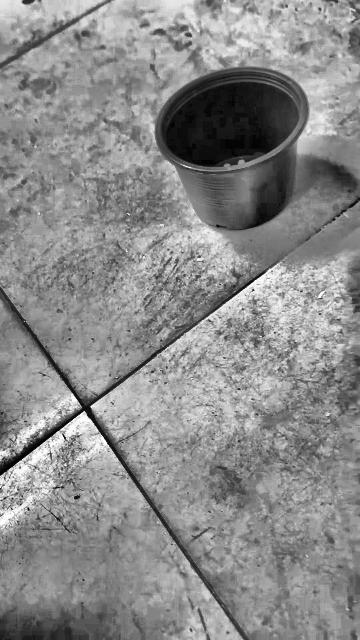pot: (155, 67, 309, 230)
